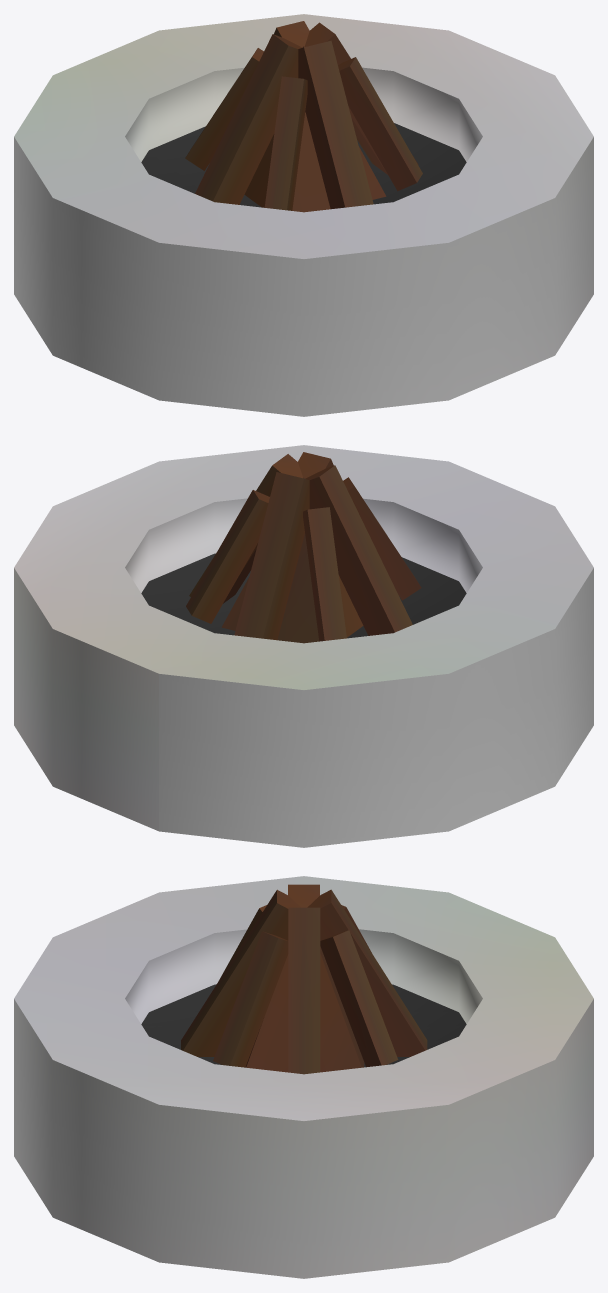
The model's file is BonFirePitUnlit.glb.
3 views of the same model, one above another, from view 1: azimuth 30°, elevation 25°; view 2: azimuth 150°, elevation 25°; view 3: azimuth 270°, elevation 25° (orthographic).
Parts seen in each view (by area): view 1: BonFirePitUnlit; view 2: BonFirePitUnlit; view 3: BonFirePitUnlit.
Part boxes in pixels (x1,y1,x2,y2): BonFirePitUnlit: [14, 14, 593, 416]; BonFirePitUnlit: [14, 445, 593, 847]; BonFirePitUnlit: [14, 876, 593, 1278].
Size of the model in its own units: 2 by 0.9897 by 2.
1 material, 1 textured.
